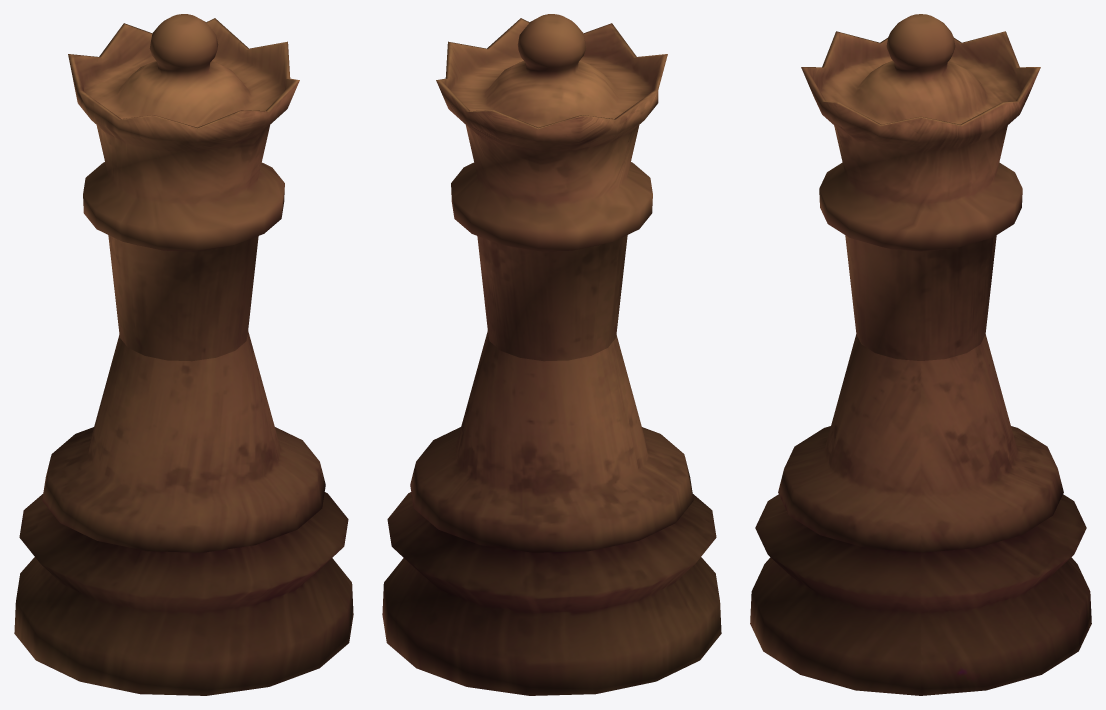
Rendered from queen.glb.
The picture shows the model from 3 angles, left to right: view 1: azimuth 30°, elevation 25°; view 2: azimuth 150°, elevation 25°; view 3: azimuth 270°, elevation 25°; orthographic projection.
Visible parts, largest first — view 1: Queen_Light; view 2: Queen_Light; view 3: Queen_Light.
Part boxes in pixels (x1,y1,x2,y2): Queen_Light: [14, 14, 353, 695]; Queen_Light: [382, 14, 721, 695]; Queen_Light: [750, 14, 1091, 695].
Size of the model in its own units: 0.093 by 0.1812 by 0.093.
Materials: 1 (1 with a texture image).
